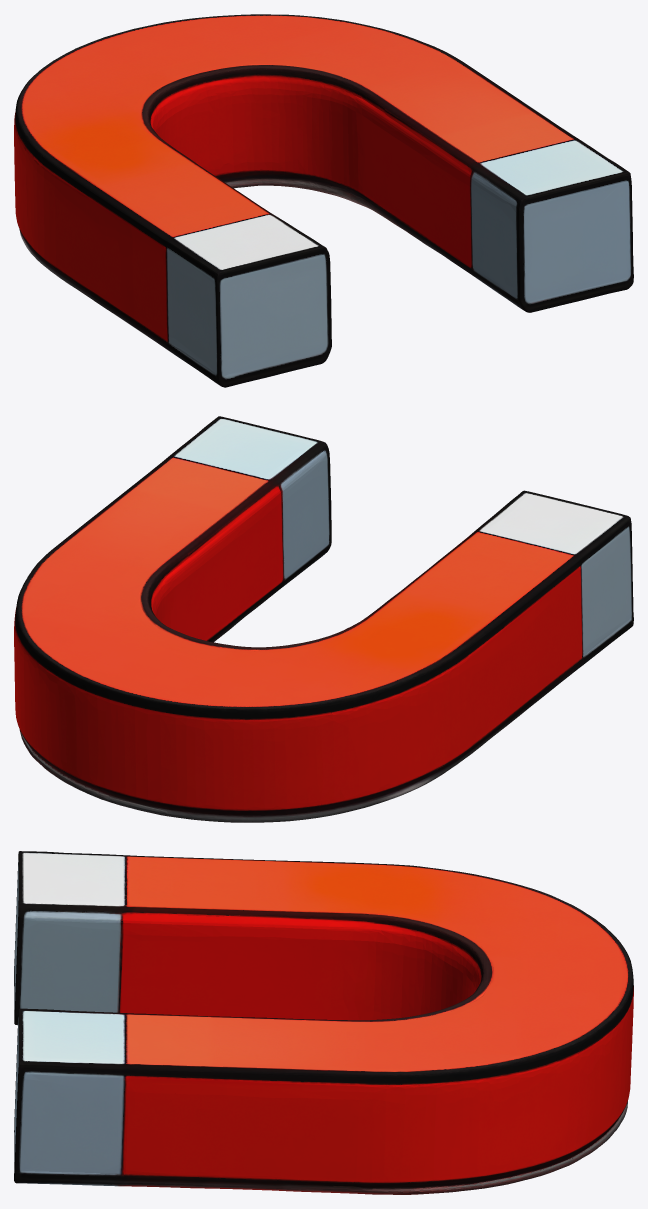
The model's file is neodimio.fbx.
3 views of the same model, one above another, from view 1: azimuth 30°, elevation 25°; view 2: azimuth 150°, elevation 25°; view 3: azimuth 270°, elevation 25° (orthographic). The views are drawn at different scales.
Visible parts, largest first — view 1: geometry_0.001; view 2: geometry_0.001; view 3: geometry_0.001.
Boxes of the visible parts, x1,y1,x2,y2 form: geometry_0.001: (14, 14, 633, 387); geometry_0.001: (14, 416, 633, 822); geometry_0.001: (14, 851, 633, 1194).
Size of the model in its own units: 0.2774 by 0.0853 by 0.3361.
1 material, 1 textured.
